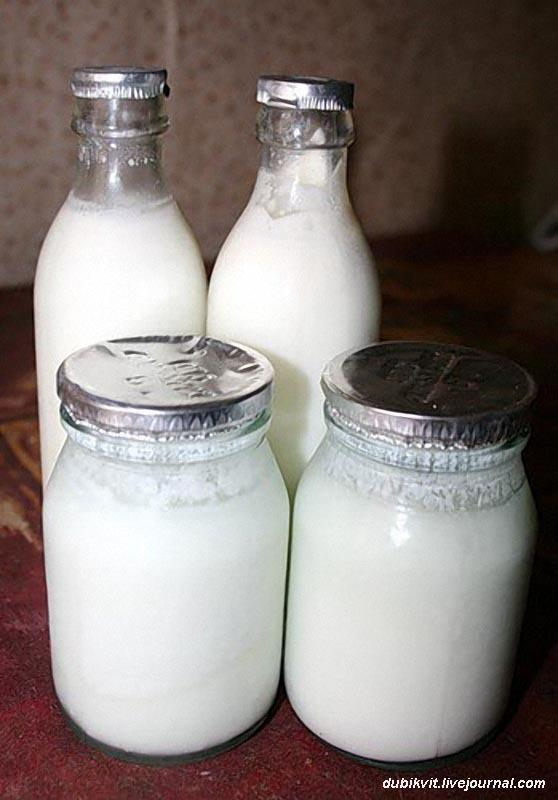milk: (20, 63, 212, 377)
